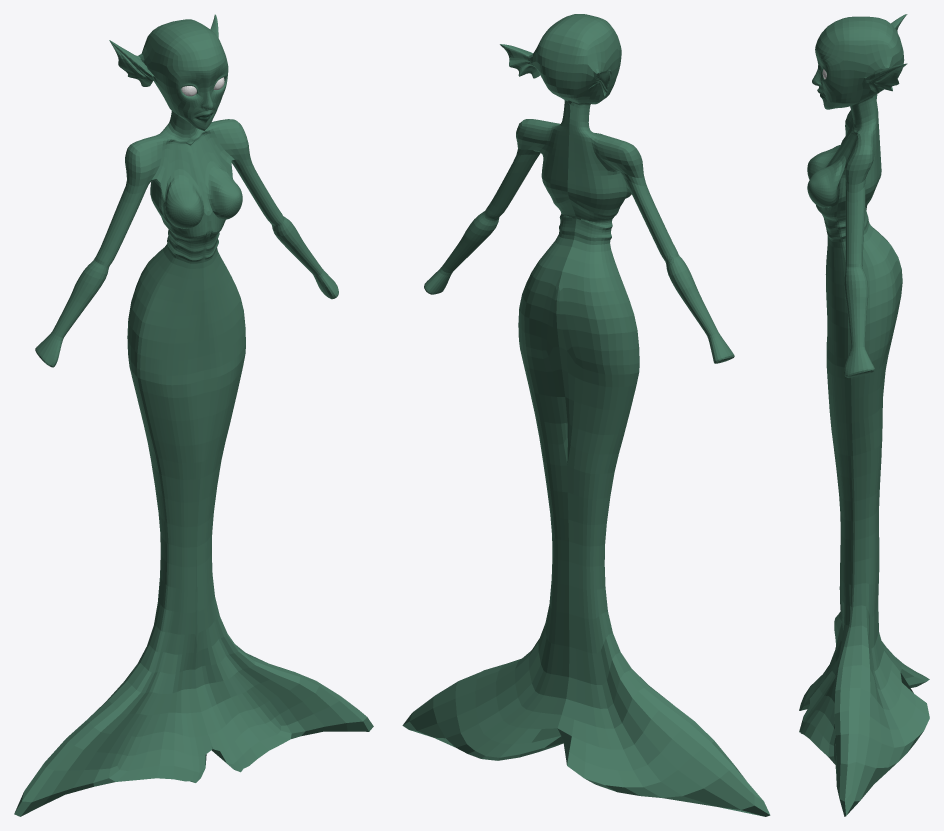
Rendered from mermaid2_1.fbx.
The picture shows the model from 3 angles, left to right: view 1: azimuth 30°, elevation 25°; view 2: azimuth 150°, elevation 25°; view 3: azimuth 270°, elevation 25°; orthographic projection. The views are drawn at different scales.
Visible parts, largest first — view 1: Roundcube; view 2: Roundcube; view 3: Roundcube.
Boxes of the visible parts, x1,y1,x2,y2 form: Roundcube: [14, 14, 373, 816]; Roundcube: [402, 14, 770, 816]; Roundcube: [799, 14, 929, 816].
Size of the model in its own units: 97.81 by 193 by 32.03.
